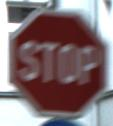Stop sign: (0, 0, 112, 125)
